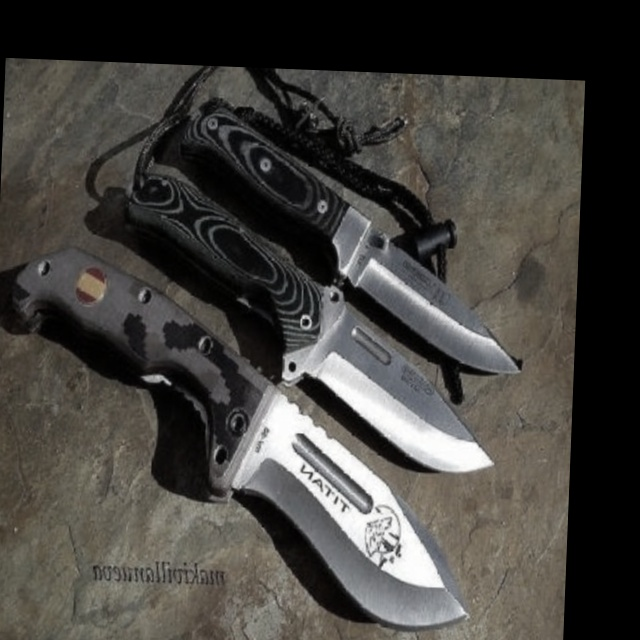Sharp-Object: (3, 248, 480, 636), (120, 163, 506, 476), (172, 100, 530, 375)
